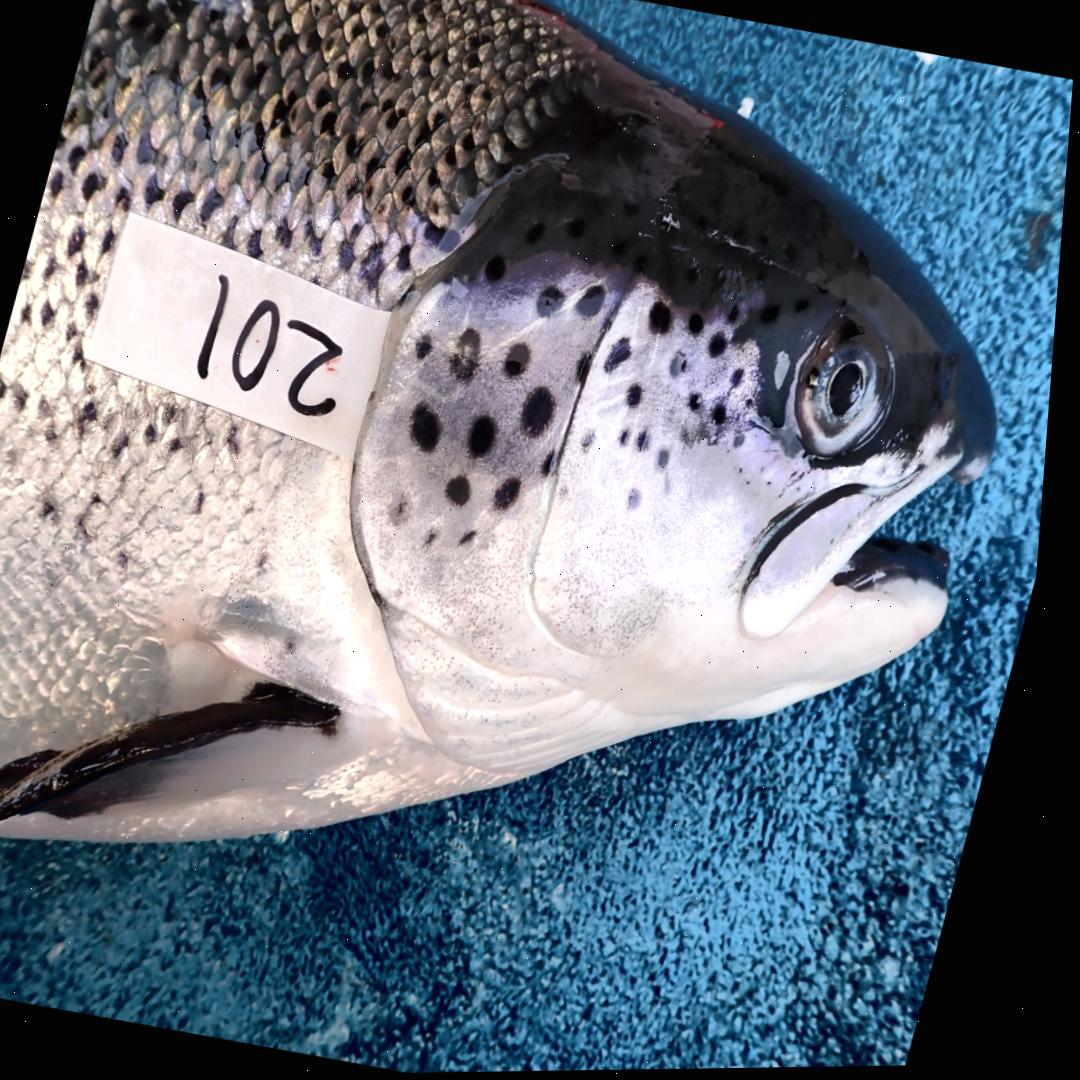spot: (526, 388, 561, 440), (454, 330, 486, 383), (416, 404, 446, 453), (474, 418, 502, 459), (394, 492, 422, 530), (580, 286, 610, 320), (609, 338, 637, 374), (508, 343, 535, 379), (541, 288, 569, 318), (501, 480, 528, 511), (452, 476, 478, 507), (653, 303, 676, 336), (713, 333, 733, 363), (488, 258, 509, 284), (546, 451, 564, 479), (673, 354, 692, 380), (429, 525, 447, 551), (582, 354, 596, 386), (691, 314, 708, 339), (631, 385, 648, 408), (420, 337, 437, 360), (466, 530, 486, 548), (587, 432, 602, 455), (642, 431, 656, 454), (718, 406, 733, 427), (634, 491, 648, 512), (693, 394, 708, 413), (734, 369, 749, 388), (663, 449, 676, 470), (566, 482, 578, 503), (739, 434, 751, 449), (625, 430, 635, 447), (749, 401, 758, 412)
